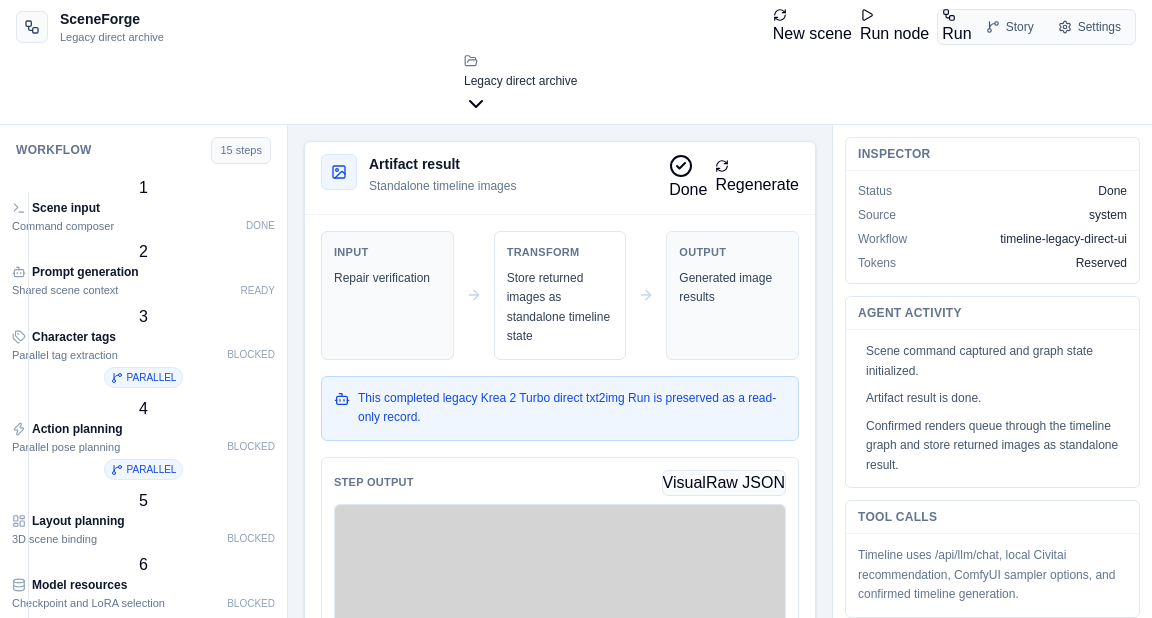
Scenario: TimelineShell › starts a fresh scene from a completed legacy Krea direct record without mutating the archive
Expected: the button "Legacy direct archive" is disabled, [464,54,577,116]
Expected: the button "New scene" is enabled, [773,8,852,46]
Click the button "1 Scene input Command composer Done": (66, 208) [12,176,275,234]
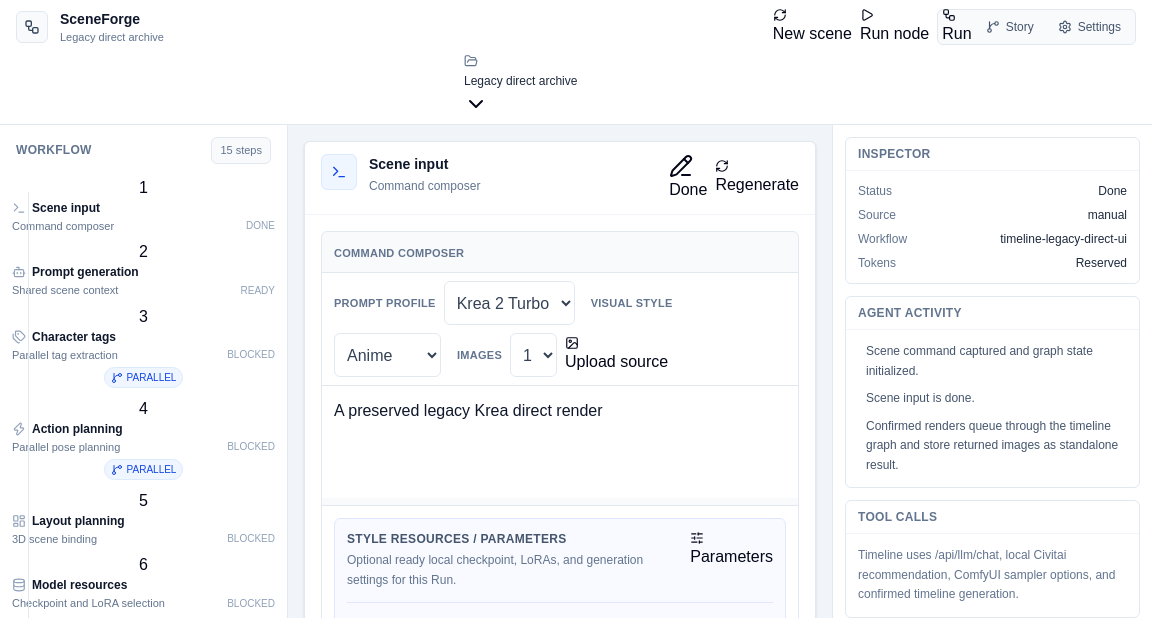
Expected: the dropdown labelled "Prompt profile" is disabled, [444,281,575,325]
Expected: the dropdown with id "timeline-image-count" is disabled, [510,333,557,377]
Expected: the button "Upload source" is disabled, [565,336,668,374]
Click the button "New scene": (812, 27) [773,8,852,46]
Wait 500 ms
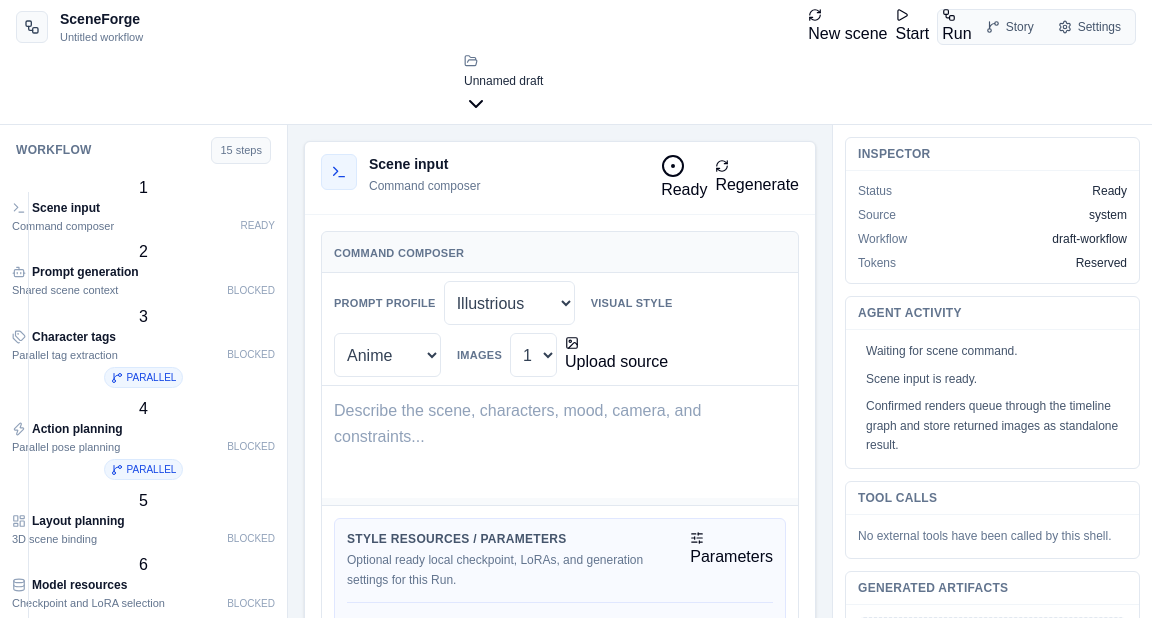
Expected: the text box labelled "Command composer" is empty, [322,386,798,498]
Expected: the text "Waiting for scene command." is shown, [866,342,1018,362]
